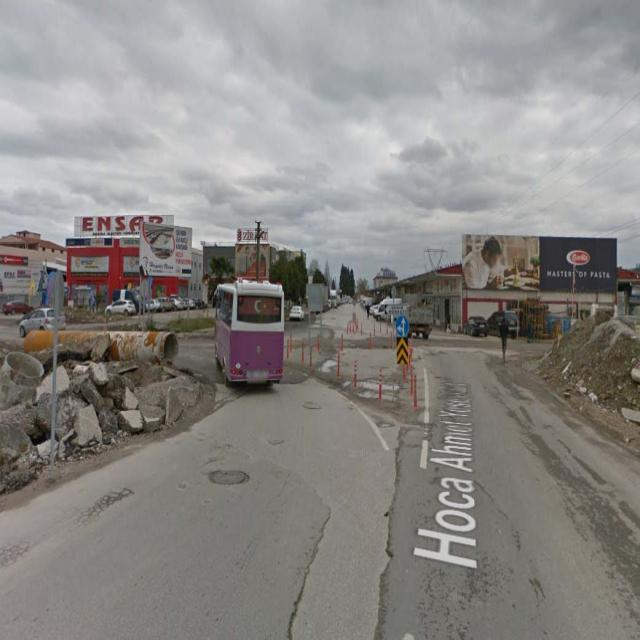ilerisol: (396, 314, 408, 339)
